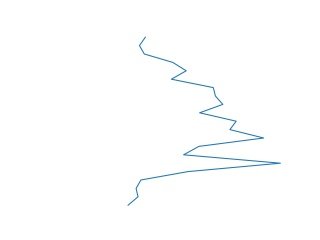floodSwamp: (124, 37, 285, 205)
